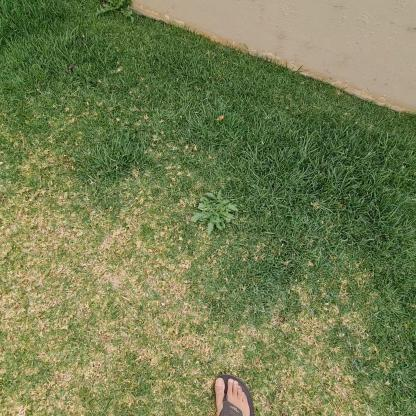Weeds: (188, 191, 241, 235), (93, 0, 135, 24)
